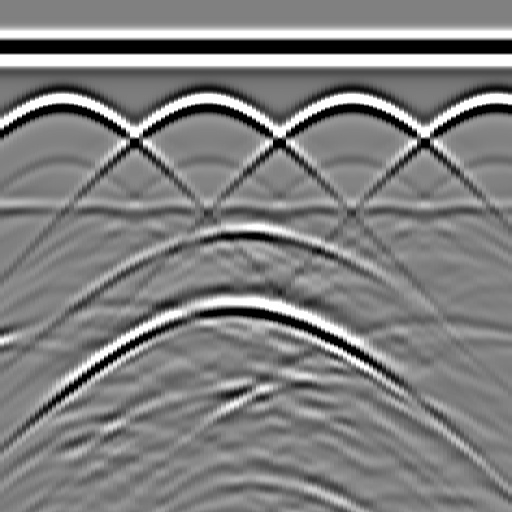grout_surface: (1, 194, 512, 224)
rebar: (41, 82, 81, 122), (185, 82, 225, 122), (329, 82, 369, 122), (473, 82, 512, 122)
rock_surface: (1, 306, 511, 380)
water_void: (211, 205, 271, 245)
